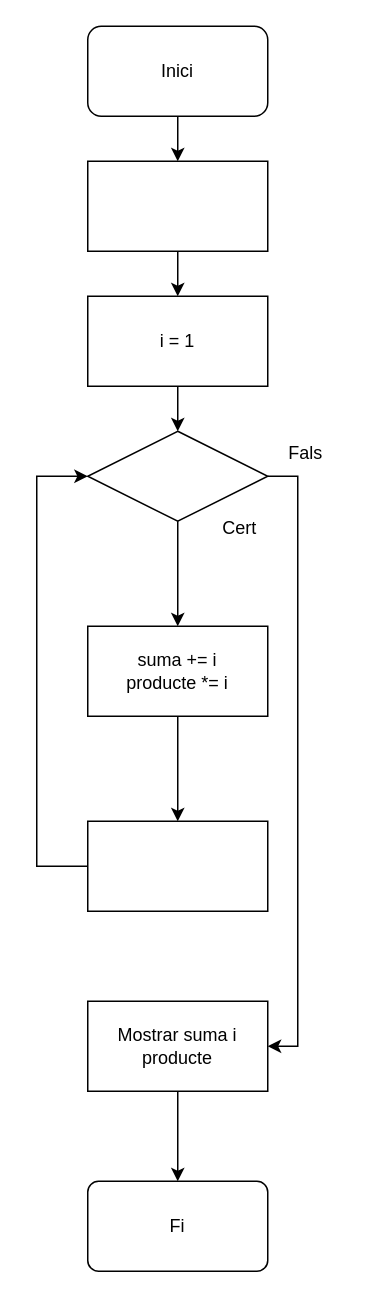
Some shapes in this 369 by 1298 pixel diagram are drawn without their labels. Here are the shapes that lost their labels. From the top down, the box of each, then its label:
(86, 160, 268, 251): suma = 0 producte = 1
(86, 430, 268, 521): i <= 10?
(86, 820, 268, 911): i++
